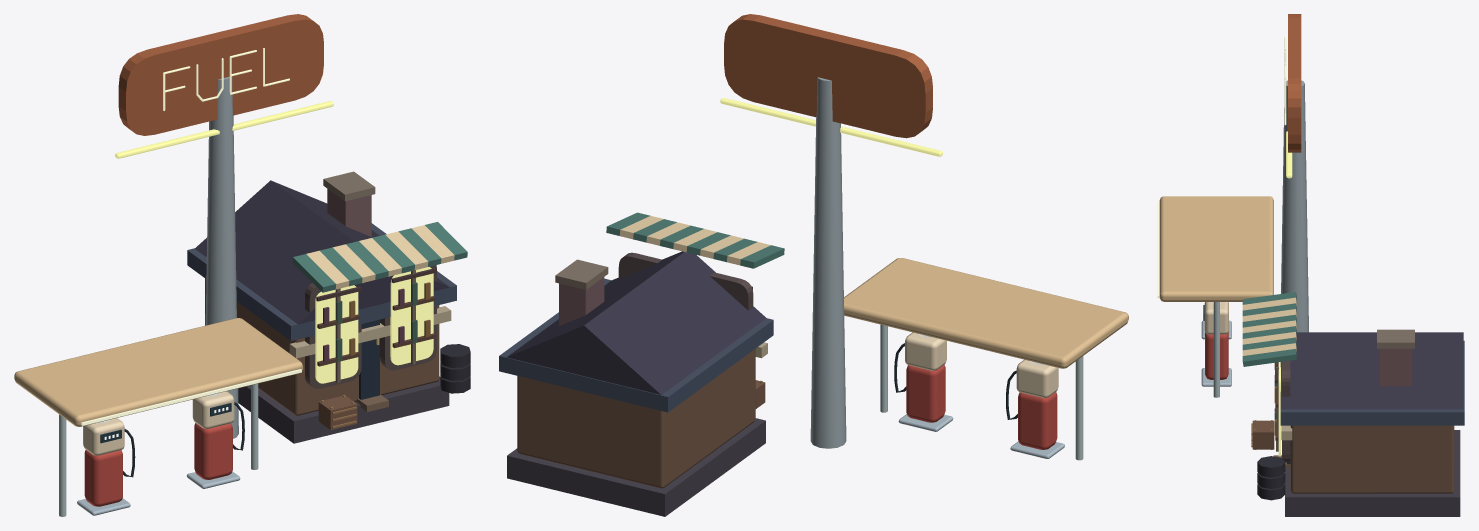
The model's file is truckstop-map.glb.
The picture shows the model from 3 angles, left to right: view 1: azimuth 30°, elevation 25°; view 2: azimuth 150°, elevation 25°; view 3: azimuth 270°, elevation 25°; orthographic projection. The views are drawn at different scales.
Parts seen in each view (by area): view 1: place-static, pumps; view 2: place-static, pumps; view 3: place-static, pumps.
Boxes of the visible parts, x1,y1,x2,y2 form: place-static: (115,14,470,443); pumps: (14,318,303,516); place-static: (499,14,942,516); pumps: (844,258,1128,460); place-static: (1242,14,1464,516); pumps: (1157,196,1273,397).
Size of the model in its own units: 5.98 by 5.28 by 3.94.
